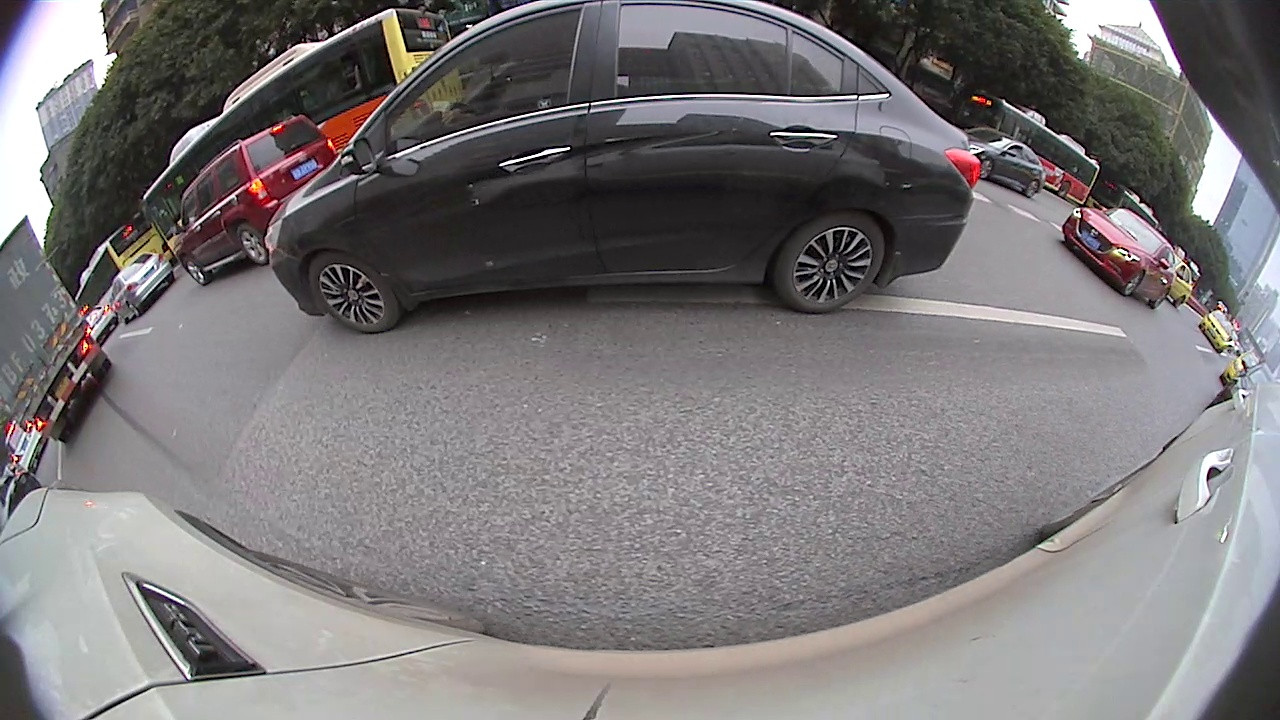bus: (143, 11, 451, 233), (966, 94, 1099, 204), (76, 208, 168, 319), (1090, 178, 1159, 228)
car: (274, 3, 980, 338), (178, 112, 341, 286), (1061, 207, 1172, 308), (964, 129, 1048, 200), (106, 249, 176, 323), (1164, 254, 1194, 307), (1200, 311, 1239, 351)
front: (308, 252, 403, 331), (183, 257, 213, 285), (1120, 269, 1144, 297), (980, 158, 994, 180)
rear: (773, 210, 885, 312), (236, 224, 270, 266), (1024, 178, 1040, 198), (1057, 180, 1071, 198), (128, 303, 142, 317)
truck: (2, 213, 117, 443)
